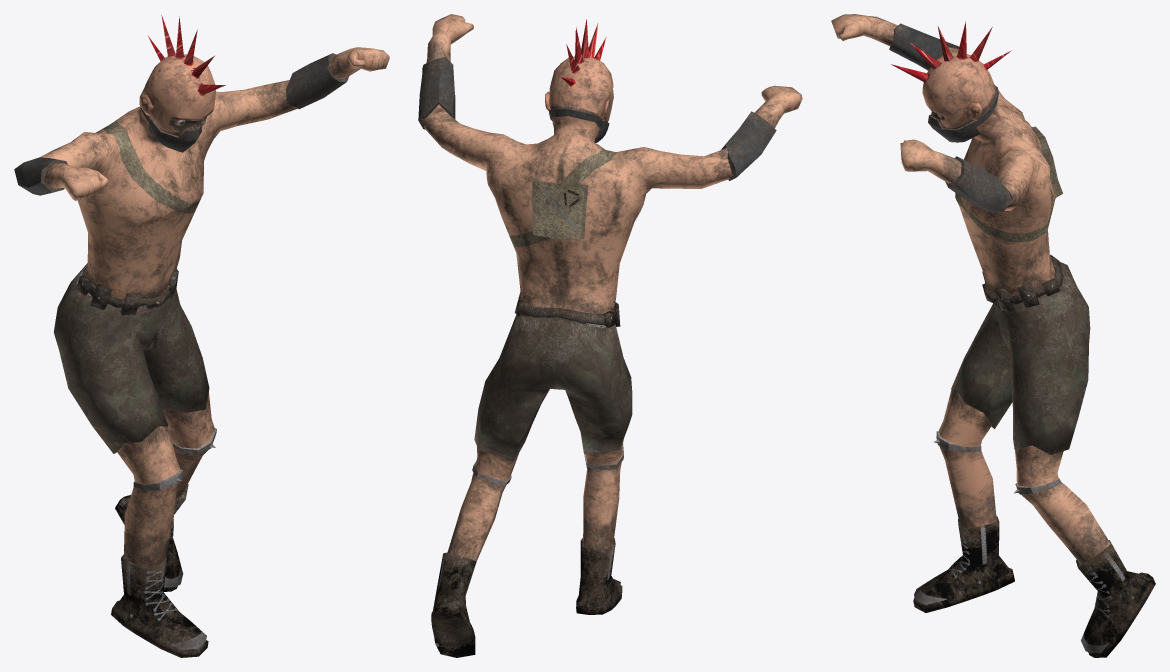
Rendered from Anim_ganar_1_npc2.0034.obj.
The picture shows the model from 3 angles, left to right: view 1: azimuth 30°, elevation 25°; view 2: azimuth 150°, elevation 25°; view 3: azimuth 270°, elevation 25°; orthographic projection. The views are drawn at different scales.
Visible parts, largest first — view 1: polySurface1; view 2: polySurface1; view 3: polySurface1.
Boxes of the visible parts, bbox=[...] form: polySurface1: bbox=[14, 15, 389, 657]; polySurface1: bbox=[418, 14, 802, 657]; polySurface1: bbox=[831, 14, 1155, 657].
Size of the model in its own units: 5.87 by 10.1 by 4.88.
